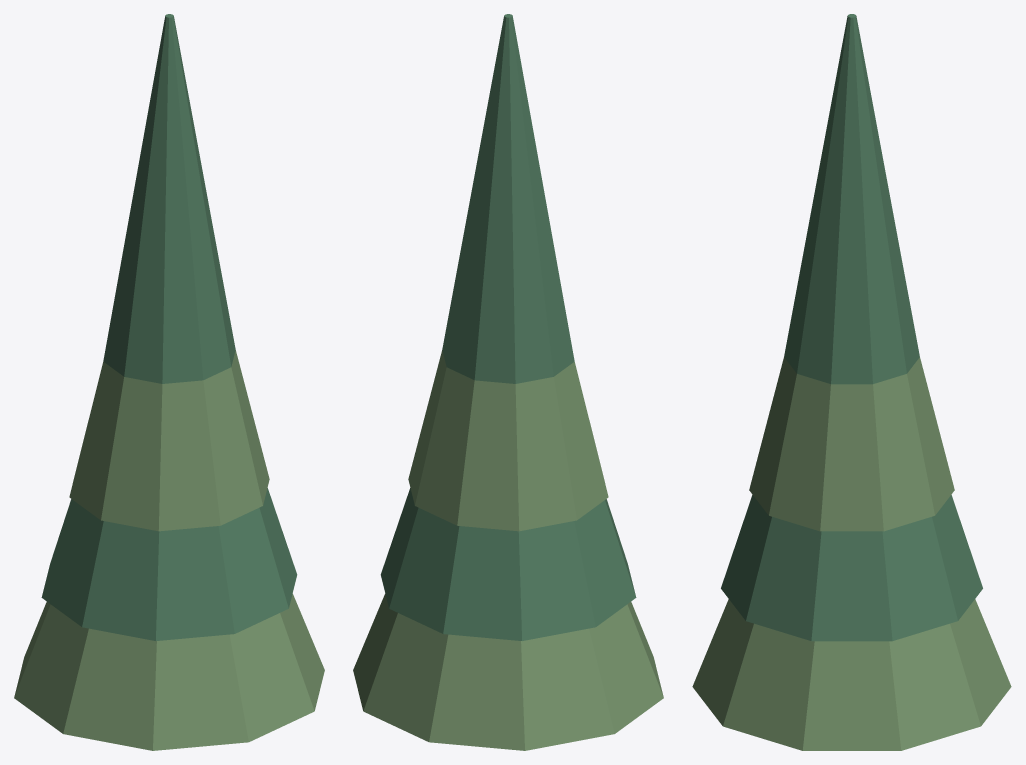
The model's file is tree_2.glb.
3 views of the same model, side by side, from view 1: azimuth 30°, elevation 25°; view 2: azimuth 150°, elevation 25°; view 3: azimuth 270°, elevation 25° (orthographic).
Visible parts, largest first — view 1: Model; view 2: Model; view 3: Model.
Boxes of the visible parts, left/top/right/bottom form: Model: left=14, top=14, right=324, bottom=750; Model: left=353, top=14, right=663, bottom=750; Model: left=692, top=14, right=1011, bottom=750.
Bounding box in the file's own units: 1.71 × 4.45 × 1.8.
